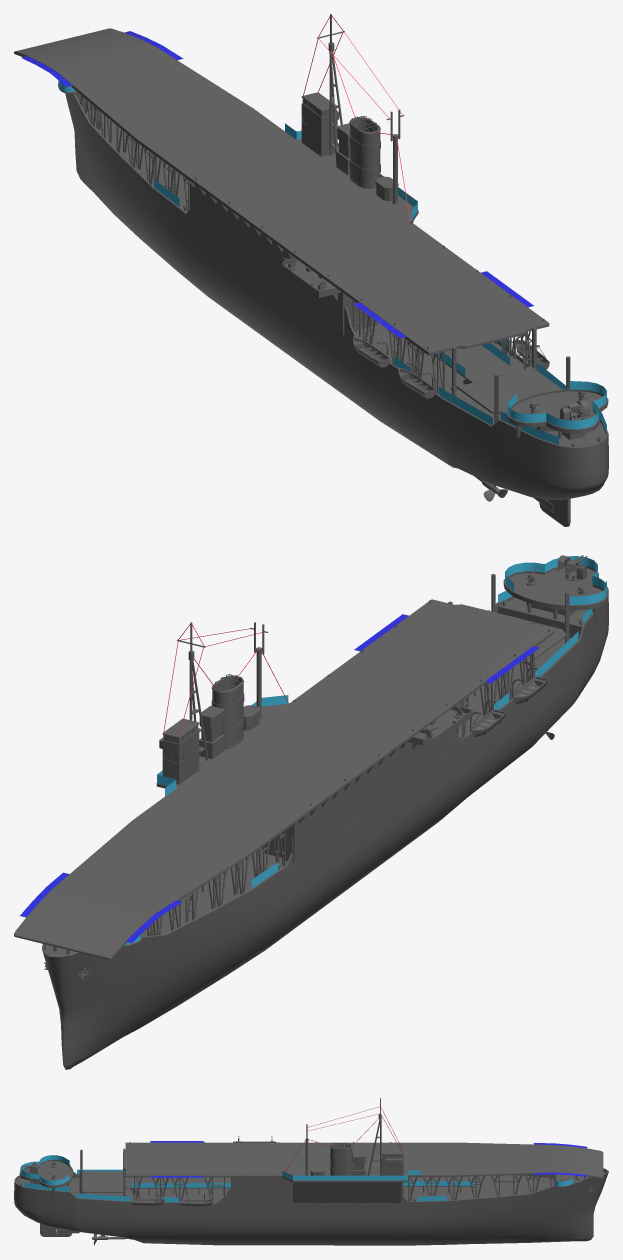
Rendered from ijn_akitsuMaru.fbx.
3 views of the same model, one above another, from view 1: azimuth 30°, elevation 25°; view 2: azimuth 150°, elevation 25°; view 3: azimuth 270°, elevation 25° (orthographic). The views are drawn at different scales.
Visible parts, largest first — view 1: body, barieriki, siatki; view 2: body, barieriki, siatki; view 3: body, barieriki, siatki, liny, wioslo.
Boxes of the visible parts, bbox=[...] form: body: bbox=[14, 14, 608, 512]; barieriki: bbox=[58, 80, 606, 444]; siatki: bbox=[22, 31, 533, 338]; body: bbox=[14, 565, 608, 1069]; barieriki: bbox=[125, 556, 606, 945]; siatki: bbox=[20, 614, 539, 942]; body: bbox=[14, 1098, 608, 1245]; barieriki: bbox=[20, 1155, 572, 1202]; siatki: bbox=[150, 1141, 586, 1177]; liny: bbox=[285, 1100, 402, 1171]; wioslo: bbox=[40, 1223, 71, 1236].
Size of the model in its own units: 2481 by 14376 by 4283.
